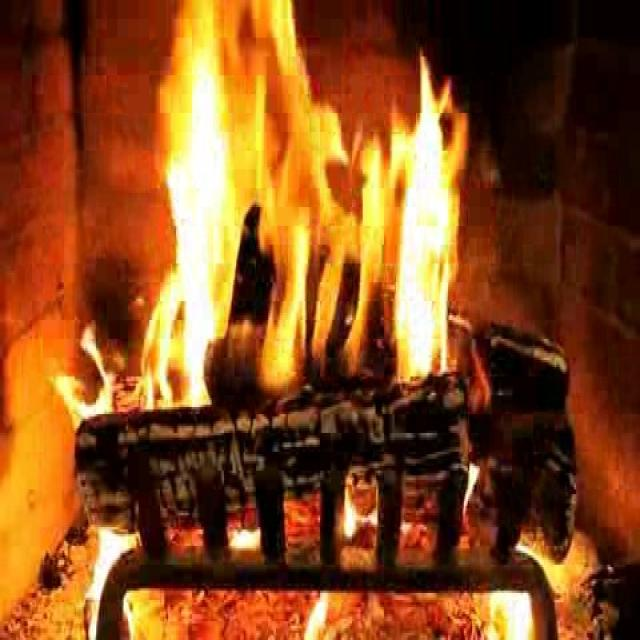fire: (154, 5, 478, 439)
